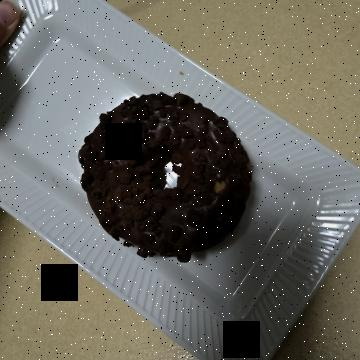doughnut: (88, 96, 292, 292)
